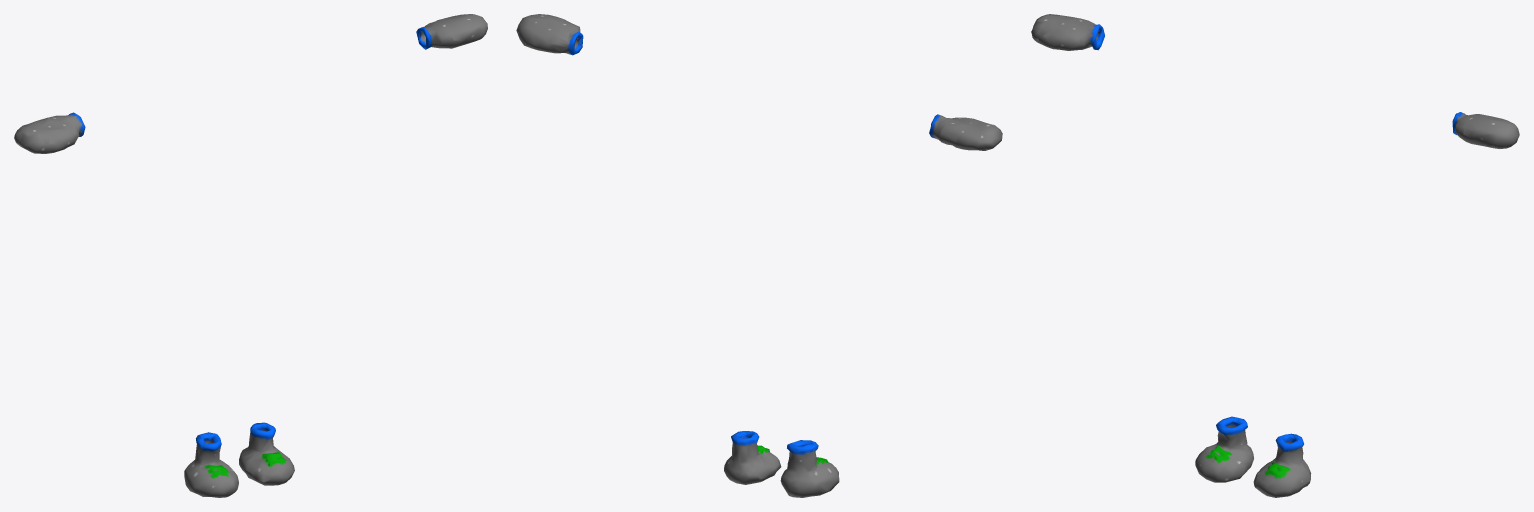
File: space shoes and gloves.glb
3 renders of one model, left to right at view 1: azimuth 30°, elevation 25°; view 2: azimuth 150°, elevation 25°; view 3: azimuth 330°, elevation 25°, orthographic.
Parts seen in each view (by area): view 1: accessories_christmas_space.001; view 2: accessories_christmas_space.001; view 3: accessories_christmas_space.001.
Boxes of the visible parts, bbox=[...] form: accessories_christmas_space.001: bbox=[14, 14, 487, 497]; accessories_christmas_space.001: bbox=[516, 14, 1002, 497]; accessories_christmas_space.001: bbox=[1031, 14, 1519, 497].
Size of the model in its own units: 1.01 by 0.8414 by 0.1319.
Materials: 1 (1 with a texture image).
